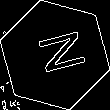N_W: (25, 29, 85, 81)
